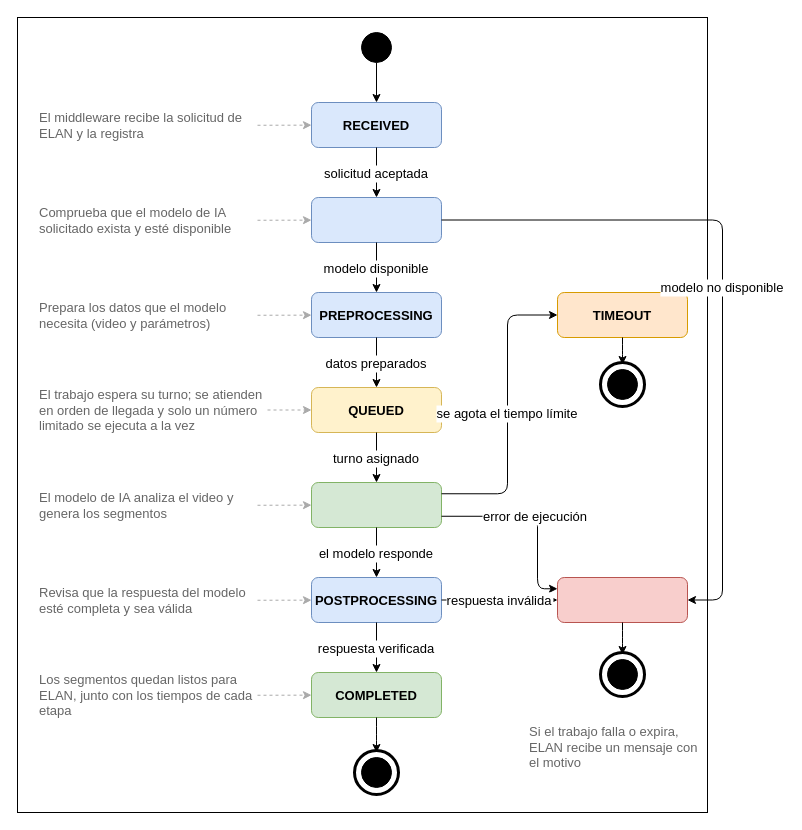
The diagram is 802 pixels wide and 830 high, and some of its shapes have lost their labels. The box of each missing label's shape, as (x1, y1, x2, y2) in pixels:
FAILED: (556, 576, 688, 622)
RUNNING: (310, 482, 442, 528)
VALIDATING: (310, 196, 442, 242)
